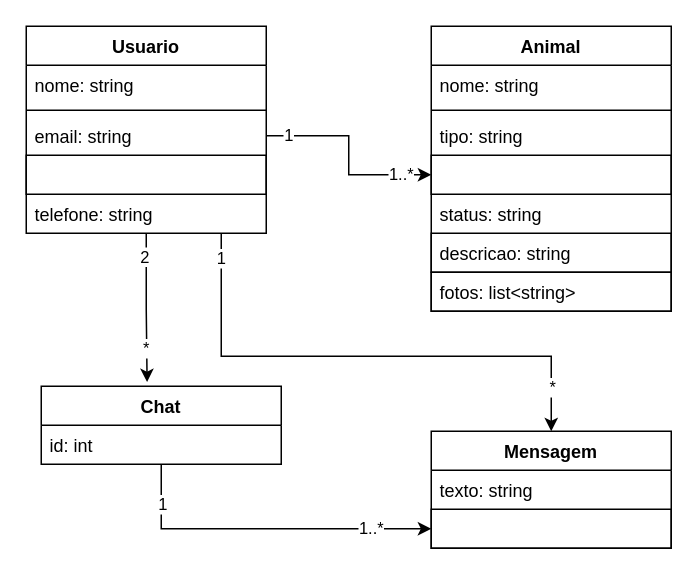
This 698x579 diagram has some shape labels left out. Each missing label, with the centre of its shape:
dataHora: datetime: point (550, 528)
genero: string: point (550, 174)
senha: string: point (145, 174)
